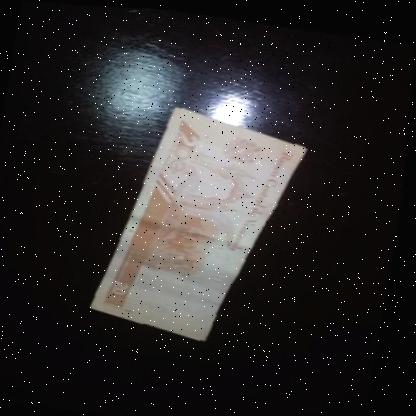twenty-back-vef: (89, 95, 314, 350)
